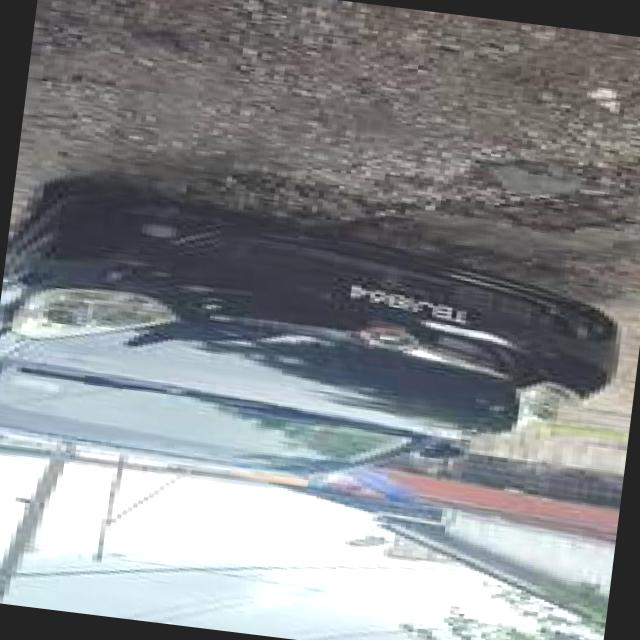PeroduaMyvi: (0, 172, 636, 520)
